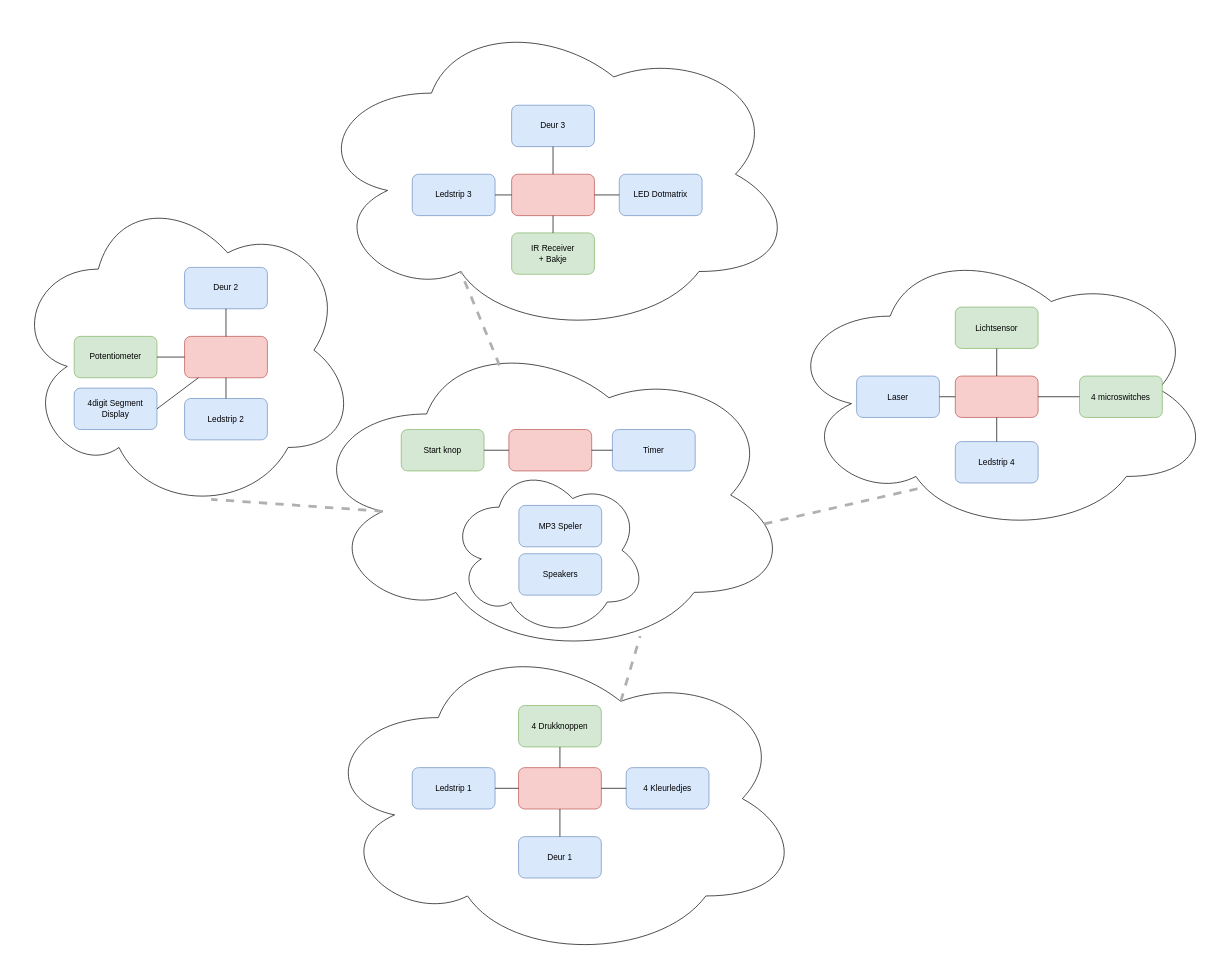
Some shapes in this 1225 by 973 pixel diagram are drawn without their labels. Here are the shapes that lost their labels. From the top down, the centre of each, then its label:
At pixel 552 195: "Kamer 3 Arduino UNO".
At pixel 225 357: "Kamer 2 Arduino UNO".
At pixel 996 396: "Kamer 4 Arduino UNO".
At pixel 550 450: "Controle Arduino Arduino Mega".
At pixel 559 788: "Kamer 1".
